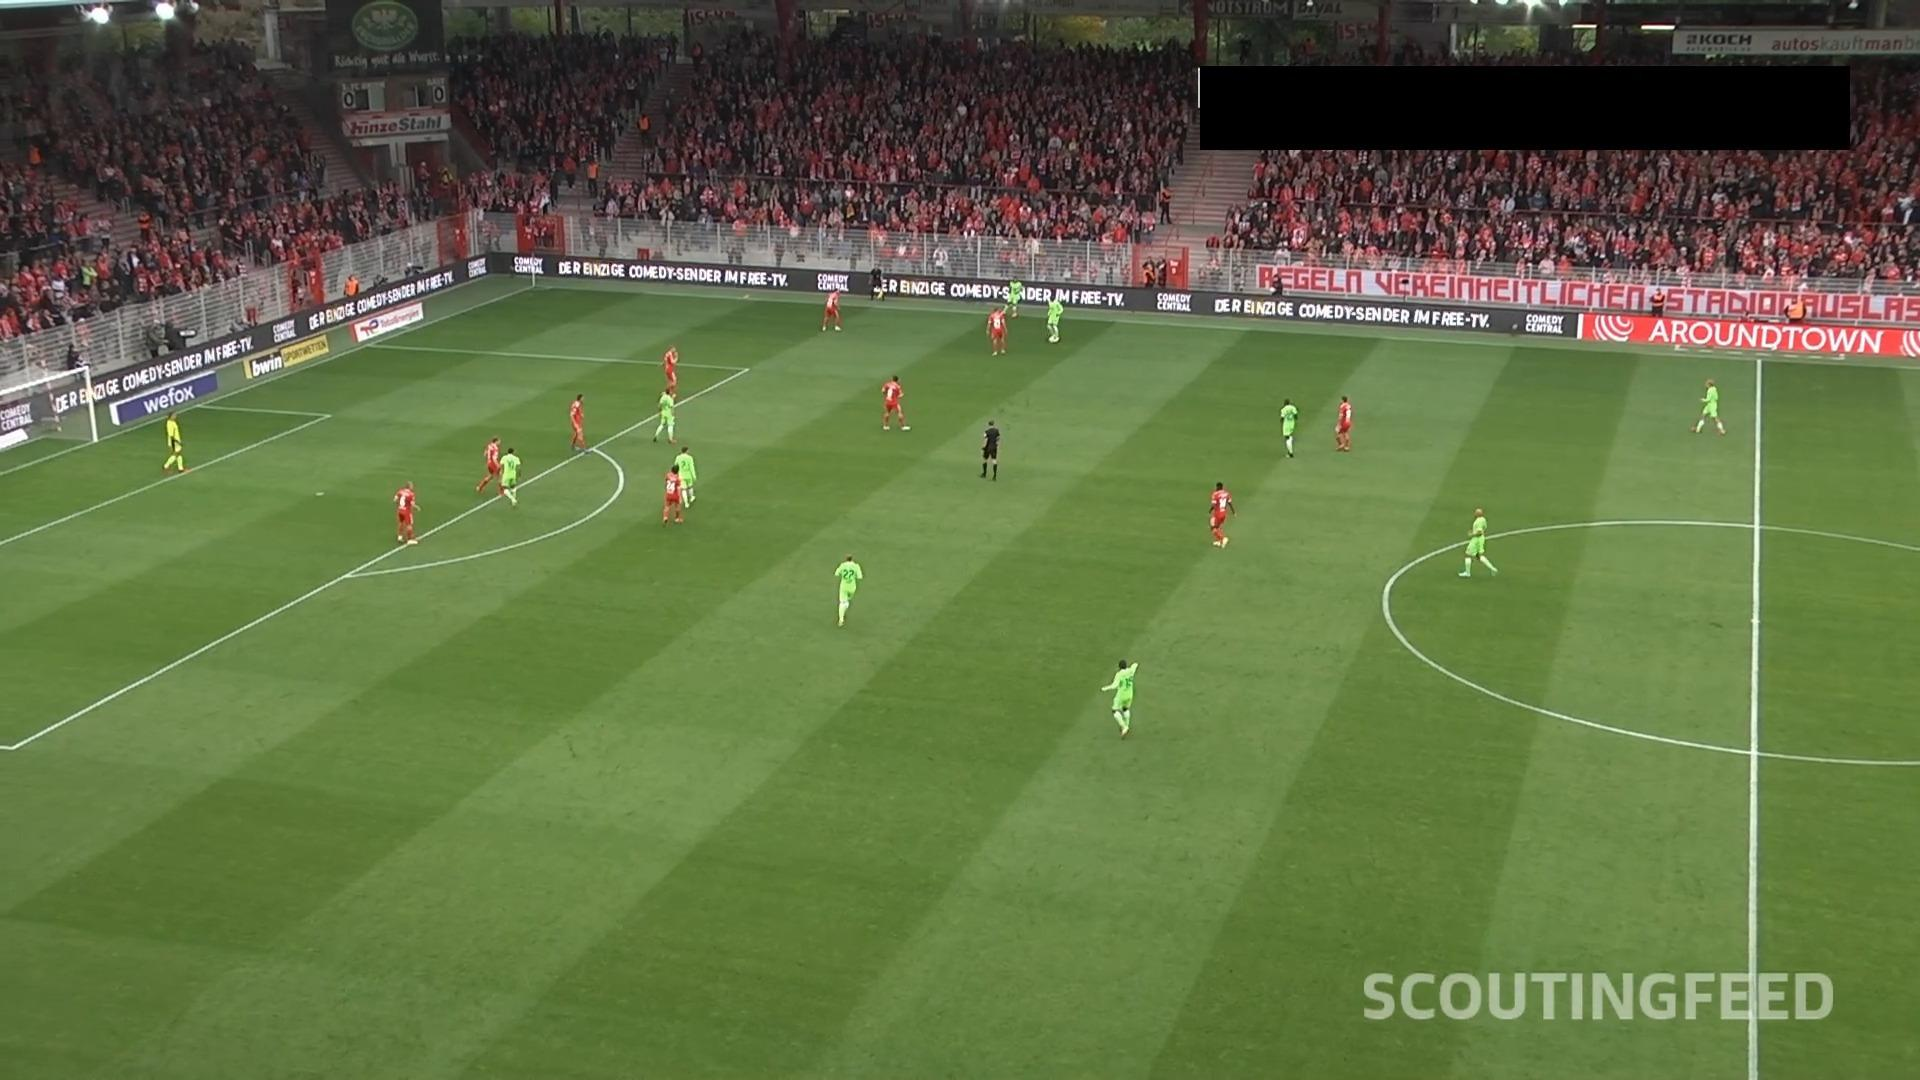ball: (1047, 335, 1056, 345)
